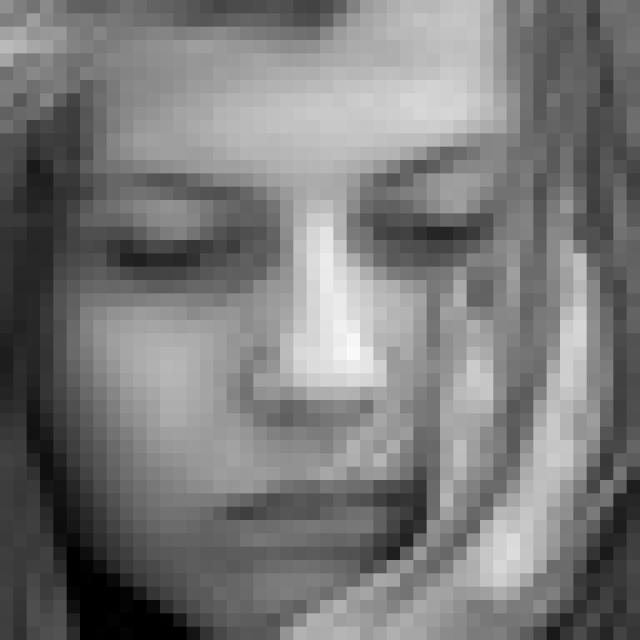sad: (83, 130, 523, 564)
